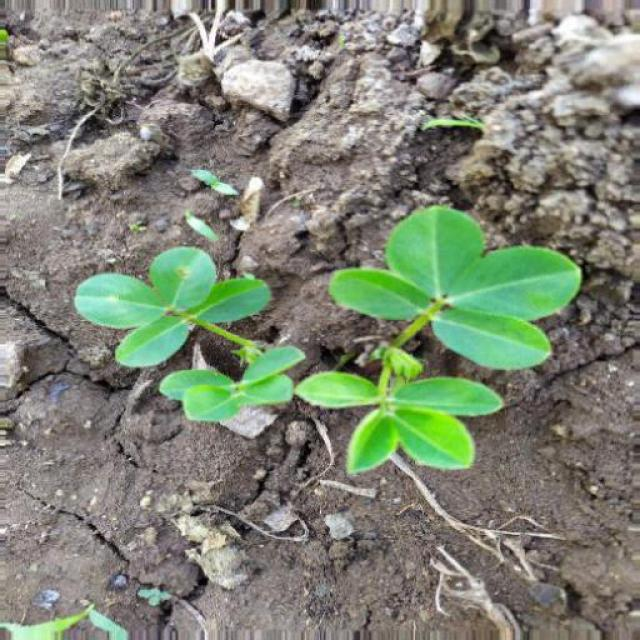weed: (72, 201, 588, 494)
